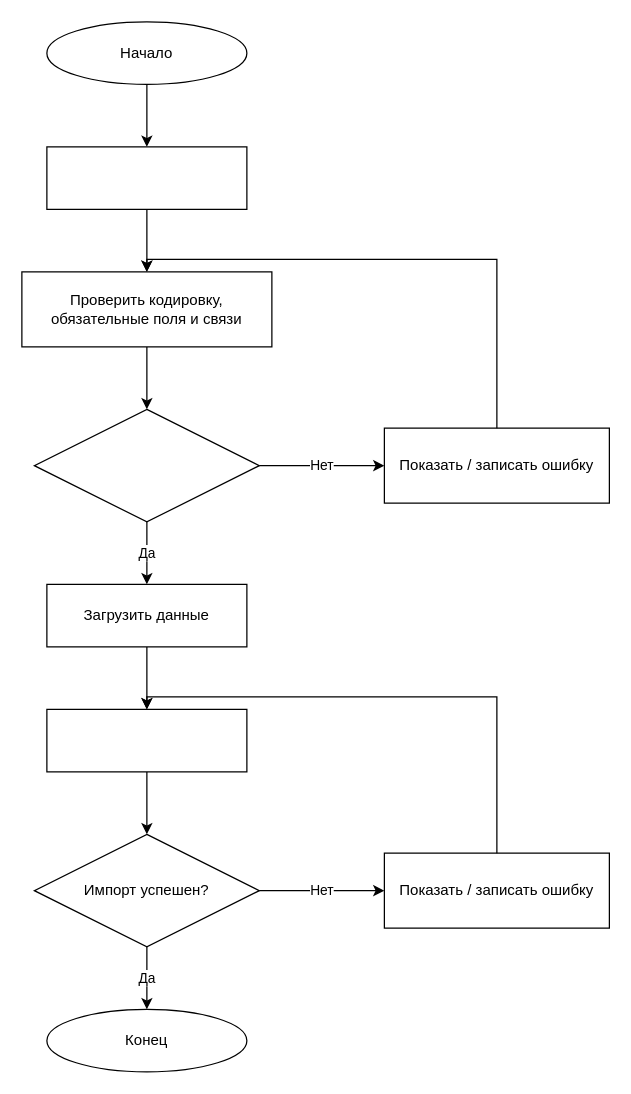
Image size: 631x1094. Some labels were removed from this diagram. Each missing label, with the box of its shape:
Данные корректны?: (33, 408, 259, 522)
Получить файлы import: (46, 146, 247, 209)
Проверить импорт: (46, 708, 247, 772)
